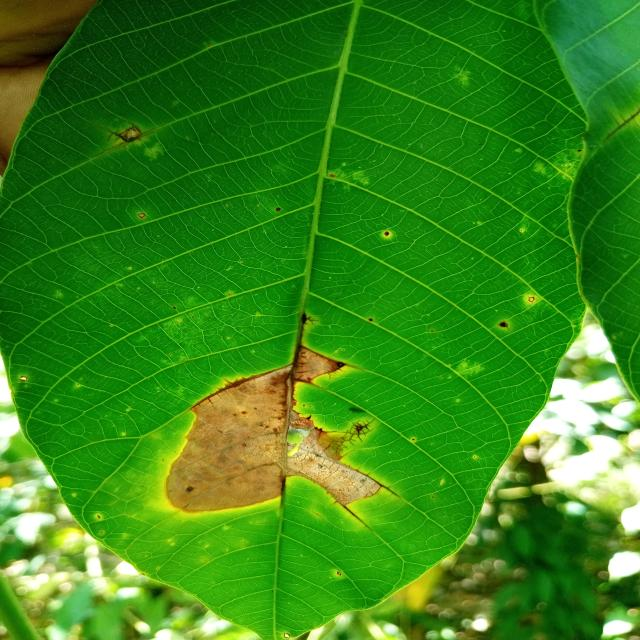Colletotrichum: (138, 213, 146, 219), (284, 633, 290, 638), (529, 297, 534, 302), (384, 231, 389, 236), (187, 487, 193, 491), (274, 428, 278, 432), (276, 208, 280, 212), (337, 572, 341, 576), (242, 443, 246, 446), (362, 479, 364, 481)
Corynespora: (188, 364, 290, 410), (331, 418, 375, 455), (290, 312, 318, 369), (601, 108, 640, 144), (341, 504, 372, 530), (365, 474, 400, 497), (106, 121, 142, 142), (323, 362, 347, 378)
Leaf-Blight: (165, 366, 382, 512), (296, 349, 336, 381)
